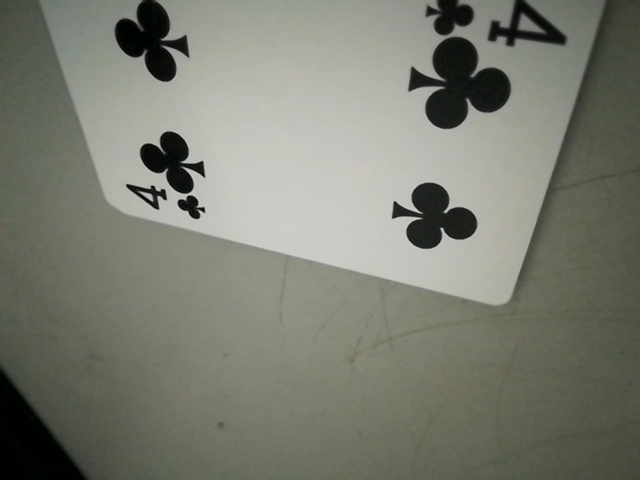mh 4: (424, 0, 573, 47), (117, 177, 209, 224)
